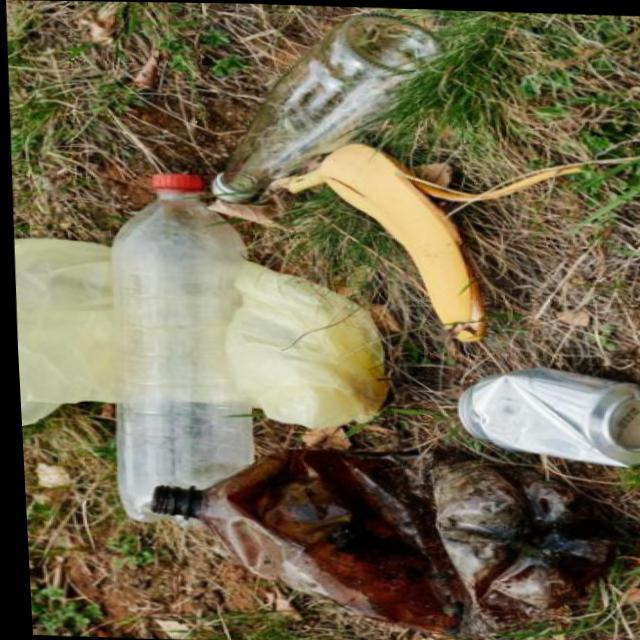clothes: (431, 356, 640, 469)
fabric: (288, 134, 487, 342)
foam box: (135, 440, 610, 638), (194, 8, 446, 204)
leaf: (84, 158, 261, 534)
metal: (9, 224, 370, 435)
